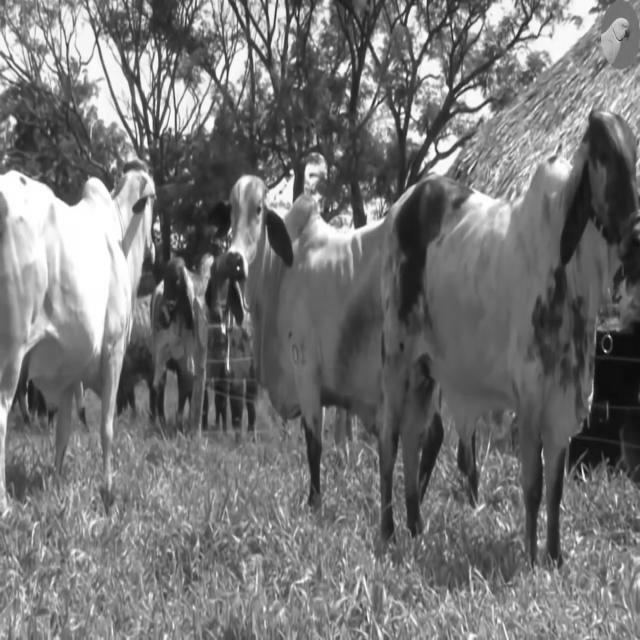cow: (380, 112, 640, 562), (0, 161, 154, 512), (230, 175, 385, 509)
